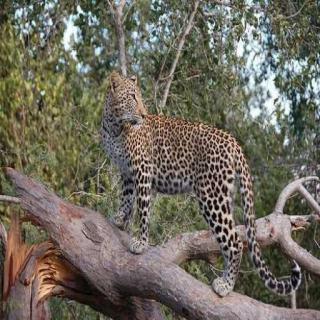Leopard: (76, 40, 289, 280)
